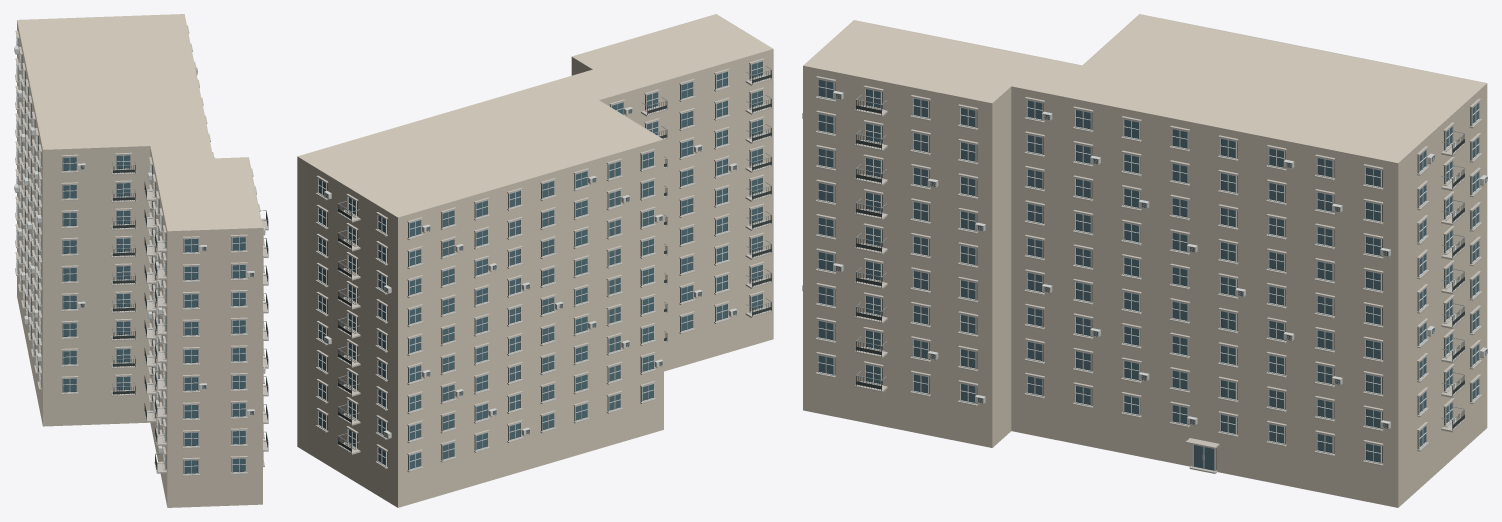
The model's file is completion-1165383442.glb.
The picture shows the model from 3 angles, left to right: view 1: azimuth 30°, elevation 25°; view 2: azimuth 150°, elevation 25°; view 3: azimuth 270°, elevation 25°; orthographic projection. The views are drawn at different scales.
Visible parts, largest first — view 1: 1165383442 Block 1165383442 mineral plaster, 1165383442 stone, 1165383442 frame, 1165383442 glass, 1165383442 dark, 1165383442 steel; view 2: 1165383442 Block 1165383442 mineral plaster, 1165383442 glass, 1165383442 frame, 1165383442 stone, 1165383442 dark, 1165383442 steel; view 3: 1165383442 Block 1165383442 mineral plaster, 1165383442 glass, 1165383442 frame, 1165383442 stone, 1165383442 dark, 1165383442 steel.
Boxes of the visible parts, bbox=[...] form: 1165383442 Block 1165383442 mineral plaster: bbox=[17, 14, 262, 507]; 1165383442 stone: bbox=[15, 14, 268, 476]; 1165383442 frame: bbox=[14, 36, 265, 474]; 1165383442 glass: bbox=[63, 155, 245, 473]; 1165383442 dark: bbox=[14, 39, 268, 473]; 1165383442 steel: bbox=[14, 48, 268, 463]; 1165383442 Block 1165383442 mineral plaster: bbox=[297, 14, 773, 507]; 1165383442 glass: bbox=[318, 61, 762, 468]; 1165383442 frame: bbox=[317, 60, 763, 470]; 1165383442 stone: bbox=[298, 14, 773, 472]; 1165383442 dark: bbox=[320, 64, 771, 470]; 1165383442 steel: bbox=[324, 66, 771, 444]; 1165383442 Block 1165383442 mineral plaster: bbox=[803, 14, 1487, 507]; 1165383442 glass: bbox=[819, 79, 1478, 470]; 1165383442 frame: bbox=[802, 79, 1487, 471]; 1165383442 stone: bbox=[803, 14, 1487, 473]; 1165383442 dark: bbox=[818, 80, 1487, 470]; 1165383442 steel: bbox=[834, 94, 1487, 459].
Size of the model in its own units: 30.18 by 32 by 57.68.
